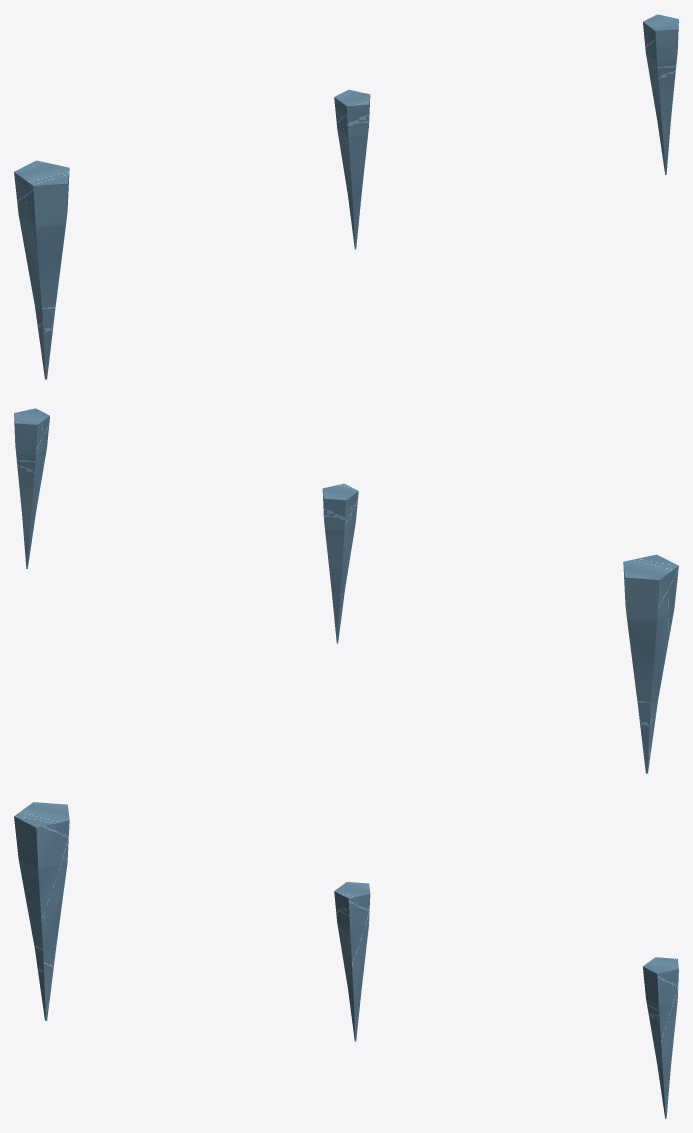
File: icicle_cluster_sparse.glb
The picture shows the model from 3 angles, top to bottom: view 1: azimuth 30°, elevation 25°; view 2: azimuth 150°, elevation 25°; view 3: azimuth 330°, elevation 25°; orthographic projection.
Visible parts, largest first — view 1: icicle_cluster_sparse; view 2: icicle_cluster_sparse; view 3: icicle_cluster_sparse.
Boxes of the visible parts, x1=… form: icicle_cluster_sparse: x1=14, y1=14, x2=678, y2=379; icicle_cluster_sparse: x1=14, y1=408, x2=678, y2=773; icicle_cluster_sparse: x1=14, y1=802, x2=678, y2=1118.
Bounding box in the file's own units: 1.2 × 0.36 × 0.1.
Materials: 1 (1 with a texture image).
